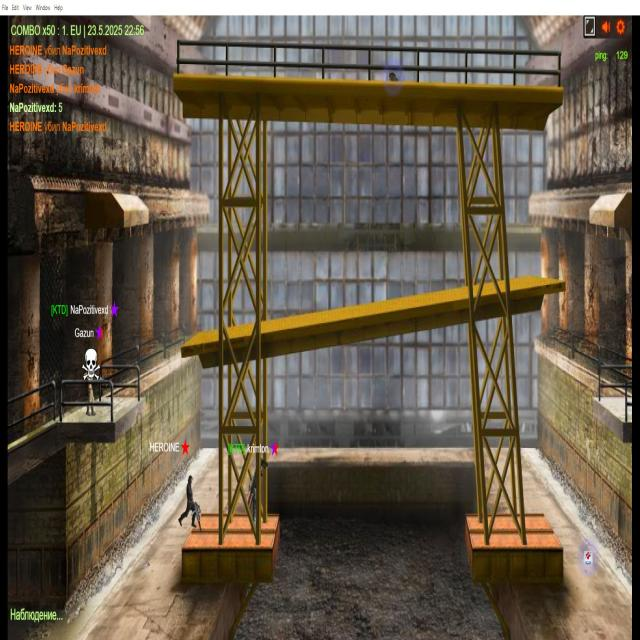enemy: (248, 455, 269, 530), (178, 470, 202, 535), (82, 354, 101, 416)
